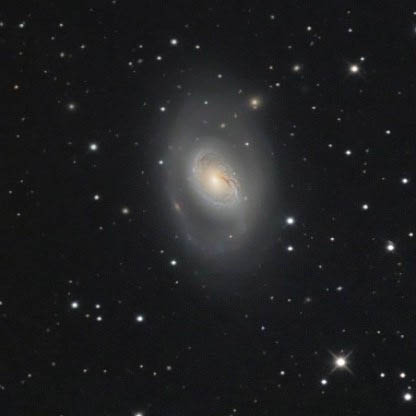Messier 96: (137, 78, 294, 293)
